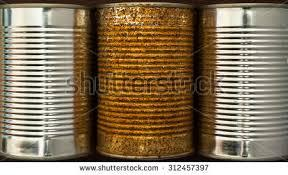Tin: (1, 2, 288, 160)
